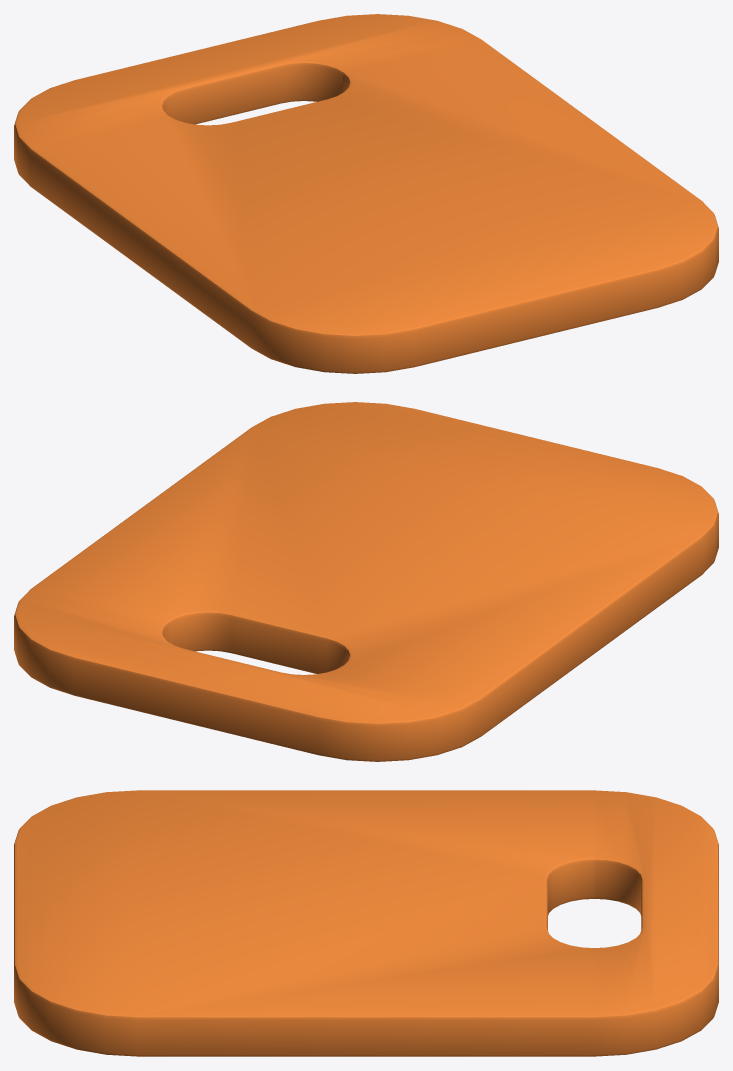
File: tabua_corte_furo.glb
3 views of the same model, one above another, from view 1: azimuth 30°, elevation 25°; view 2: azimuth 150°, elevation 25°; view 3: azimuth 270°, elevation 25° (orthographic). The views are drawn at different scales.
Visible parts, largest first — view 1: tabua_corte_furo; view 2: tabua_corte_furo; view 3: tabua_corte_furo.
Boxes of the visible parts, x1,y1,x2,y2 form: tabua_corte_furo: [14, 14, 718, 373]; tabua_corte_furo: [14, 402, 718, 761]; tabua_corte_furo: [14, 790, 718, 1056].
Size of the model in its own units: 0.26 by 0.022 by 0.34.
Materials: 1 (1 with a texture image).
